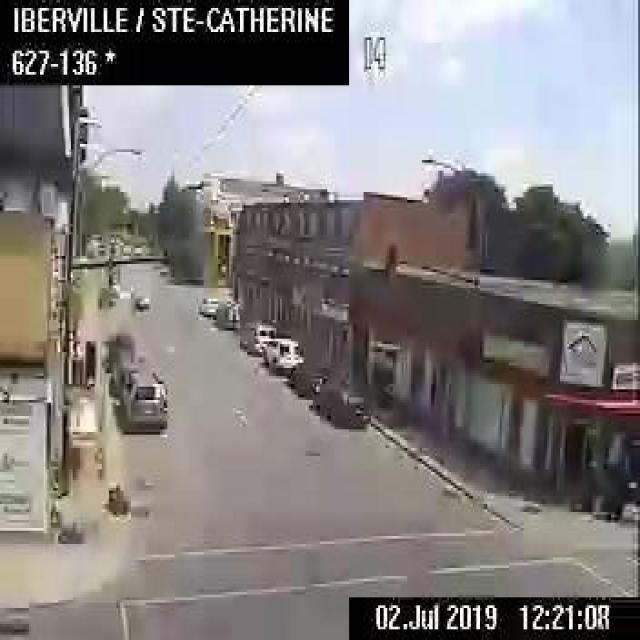vehicle: (118, 369, 166, 431), (311, 377, 370, 426), (107, 357, 148, 396), (261, 335, 303, 372), (288, 359, 326, 394), (104, 330, 132, 370), (245, 319, 275, 353), (216, 295, 240, 325), (196, 293, 219, 314), (134, 292, 150, 310)
